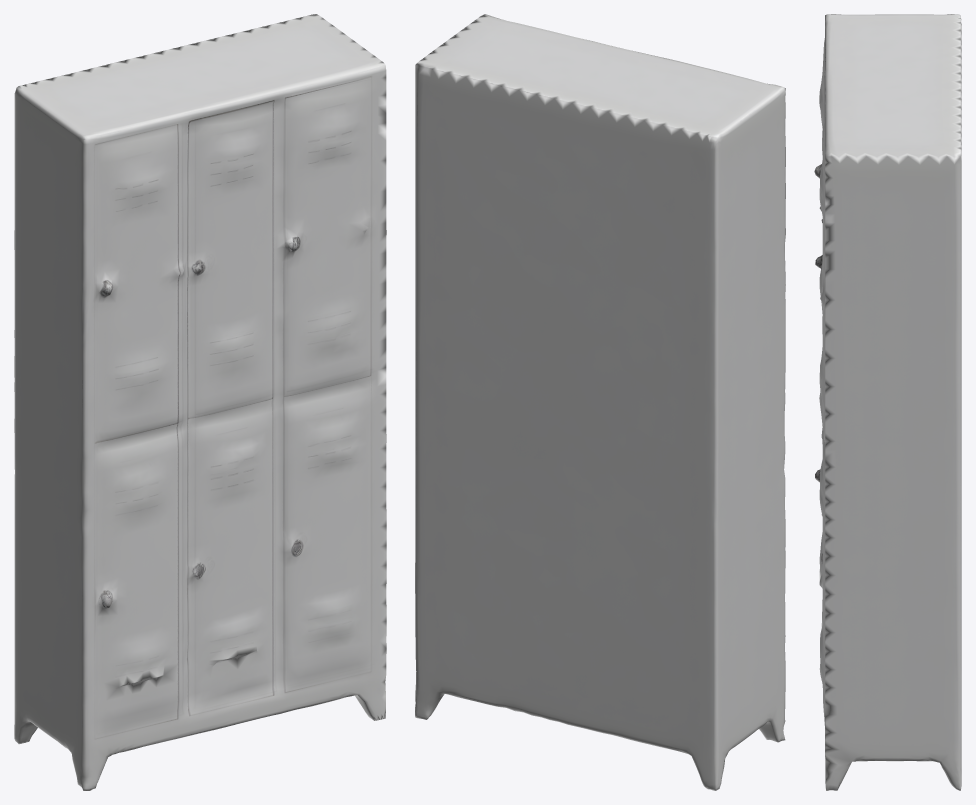
The model's file is Meshy_AI_Metal_Locker_Cabinet_0102213414_texture.fbx.
The picture shows the model from 3 angles, left to right: view 1: azimuth 30°, elevation 25°; view 2: azimuth 150°, elevation 25°; view 3: azimuth 270°, elevation 25°; orthographic projection. The views are drawn at different scales.
Visible parts, largest first — view 1: Mesh0; view 2: Mesh0; view 3: Mesh0.
Part boxes in pixels (x1,y1,x2,y2): Mesh0: [14, 14, 386, 790]; Mesh0: [415, 14, 785, 790]; Mesh0: [814, 14, 961, 790].
Size of the model in its own units: 92.68 by 192 by 40.26.
1 material, 1 textured.
